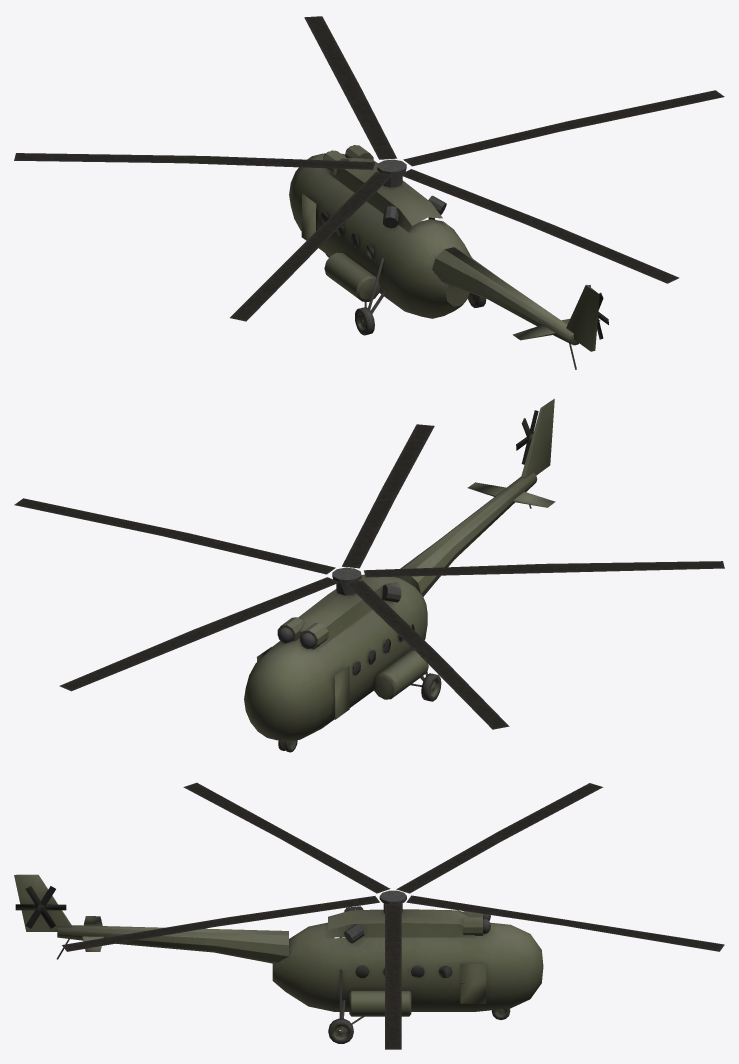
File: helicopter_lod1.glb
3 renders of one model, top to bottom at view 1: azimuth 30°, elevation 25°; view 2: azimuth 150°, elevation 25°; view 3: azimuth 270°, elevation 25°, orthographic. The views are drawn at different scales.
Parts seen in each view (by area): view 1: fuselage, rotor; view 2: fuselage, rotor; view 3: fuselage, rotor, tail_rotor.
Boxes of the visible parts, box(x1,y1,x2,y2) form: fuselage: box(289, 145, 600, 369); rotor: box(14, 16, 724, 321); fuselage: box(244, 398, 555, 752); rotor: box(14, 424, 724, 729); fuselage: box(14, 874, 543, 1043); rotor: box(62, 782, 724, 1049); tail_rotor: box(15, 886, 66, 928).
Bounding box in the file's own units: 19.33 × 4.85 × 21.79.
1 material, 1 textured.
